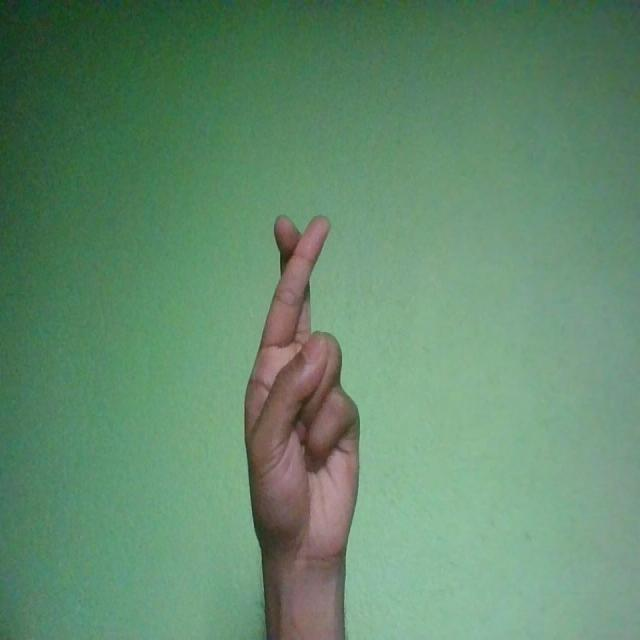Ok: (244, 216, 361, 572)
